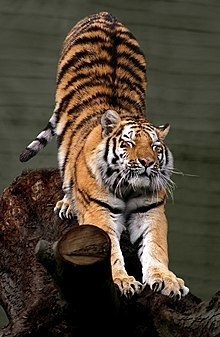tigre: (15, 6, 195, 303)
